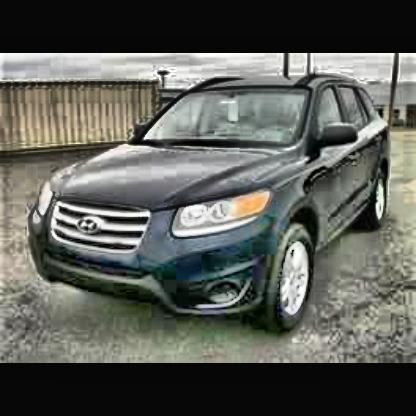Hyundai Santa Fe SUV 2012: (29, 72, 396, 341)
